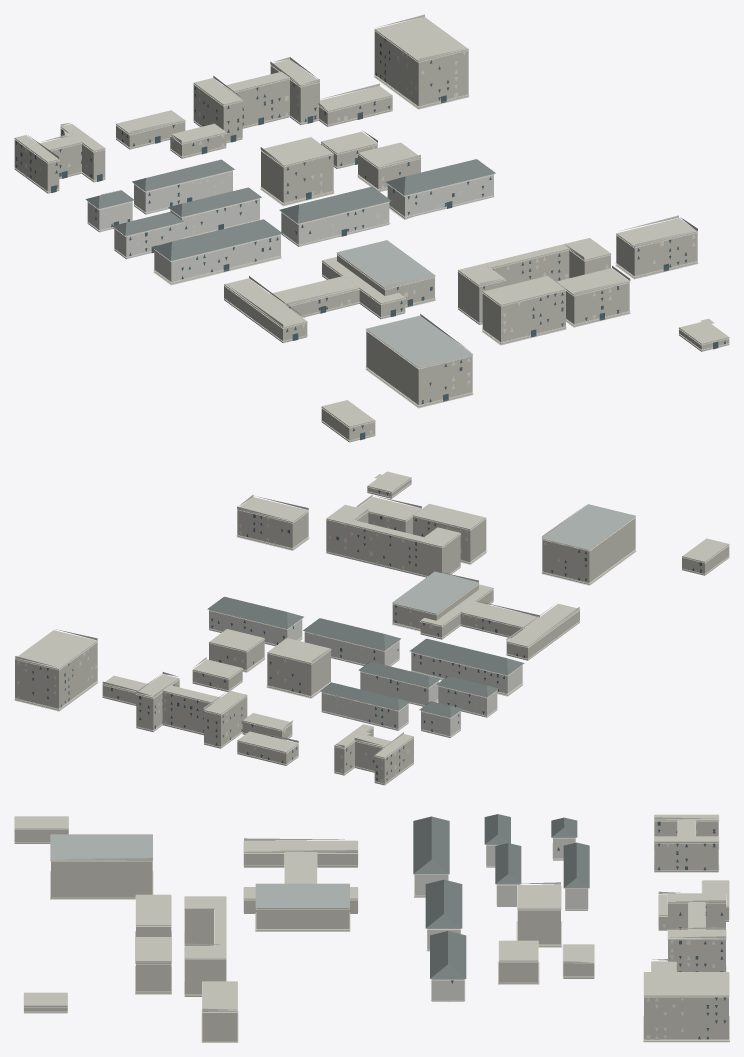
The model's file is shared-04-far.glb.
3 renders of one model, top to bottom at view 1: azimuth 30°, elevation 25°; view 2: azimuth 150°, elevation 25°; view 3: azimuth 270°, elevation 25°, orthographic. The views are drawn at different scales.
Parts seen in each view (by area): view 1: Window frames and coping details.004, 国定路教师公寓.001, Weathered flat roof details.004, 综合楼.001, 新闻学院办公楼.001, 东区学生公寓.001, 新闻学院教学楼.001, Dark blue grey glazing details.004, 居海图书馆.001, 燕园宾馆 17号楼.001, 锅炉房 · 西翼.001, 燕园宾馆 18号楼.001 (+32 smaller); view 2: Window frames and coping details.004, 国定路教师公寓.001, Weathered flat roof details.004, 新闻学院办公楼.001, 东区学生公寓.001, 新闻学院教学楼.001, 新闻学院北楼 · 横楼.001, 综合楼.001, 锅炉房 · 西翼.001, 燕园宾馆 17号楼.001, 正大管理发展中心 · 西翼.001, 正大管理发展中心 · 横楼.001 (+32 smaller); view 3: 国定路教师公寓.001, Weathered flat roof details.004, Window frames and coping details.004, 新闻学院办公楼.001, 锅炉房 · 西翼.001, 东区学生公寓.001, 正大中心西侧楼 · 东翼.001, 正大管理发展中心 · 东翼.001, 新闻学院教学楼.001, 演播厅.001, 燕园宾馆 17号楼 hipped tiled roof.001, 居海图书馆.001 (+27 smaller).
Boxes of the visible parts, left/top/right/bottom form: Window frames and coping details.004: left=14, top=29, right=729, bottom=441; 国定路教师公寓.001: left=374, top=17, right=468, bottom=108; Weathered flat roof details.004: left=336, top=240, right=472, bottom=368; 综合楼.001: left=482, top=276, right=565, bottom=344; 新闻学院办公楼.001: left=366, top=329, right=472, bottom=406; 东区学生公寓.001: left=261, top=137, right=333, bottom=204; 新闻学院教学楼.001: left=616, top=218, right=697, bottom=278; Dark blue grey glazing details.004: left=16, top=38, right=725, bottom=440; 居海图书馆.001: left=556, top=268, right=629, bottom=326; 燕园宾馆 17号楼.001: left=154, top=234, right=280, bottom=284; 锅炉房 · 西翼.001: left=224, top=278, right=307, bottom=342; 燕园宾馆 18号楼.001: left=281, top=201, right=389, bottom=246; Window frames and coping details.004: left=14, top=478, right=729, bottom=784; 国定路教师公寓.001: left=15, top=630, right=97, bottom=710; Weathered flat roof details.004: left=392, top=504, right=635, bottom=613; 新闻学院办公楼.001: left=542, top=516, right=635, bottom=584; 东区学生公寓.001: left=267, top=638, right=330, bottom=697; 新闻学院教学楼.001: left=237, top=497, right=308, bottom=549; 新闻学院北楼 · 横楼.001: left=349, top=520, right=424, bottom=575; 综合楼.001: left=413, top=503, right=486, bottom=563; 锅炉房 · 西翼.001: left=506, top=603, right=579, bottom=660; 燕园宾馆 17号楼.001: left=411, top=651, right=522, bottom=695; 正大管理发展中心 · 西翼.001: left=204, top=690, right=247, bottom=748; 正大管理发展中心 · 横楼.001: left=162, top=685, right=220, bottom=735; 国定路教师公寓.001: left=644, top=972, right=728, bottom=1041; Weathered flat roof details.004: left=50, top=834, right=349, bottom=908; Window frames and coping details.004: left=14, top=815, right=729, bottom=1040; 新闻学院办公楼.001: left=51, top=860, right=152, bottom=898; 锅炉房 · 西翼.001: left=244, top=840, right=357, bottom=867; 东区学生公寓.001: left=517, top=885, right=560, bottom=946; 正大中心西侧楼 · 东翼.001: left=654, top=836, right=718, bottom=872; 正大管理发展中心 · 东翼.001: left=668, top=929, right=725, bottom=971; 新闻学院教学楼.001: left=202, top=981, right=237, bottom=1041; 演播厅.001: left=256, top=908, right=349, bottom=930; 燕园宾馆 17号楼 hipped tiled roof.001: left=413, top=816, right=449, bottom=874; 居海图书馆.001: left=136, top=937, right=171, bottom=993.
Size of the model in its own units: 193 by 22.36 by 276.
